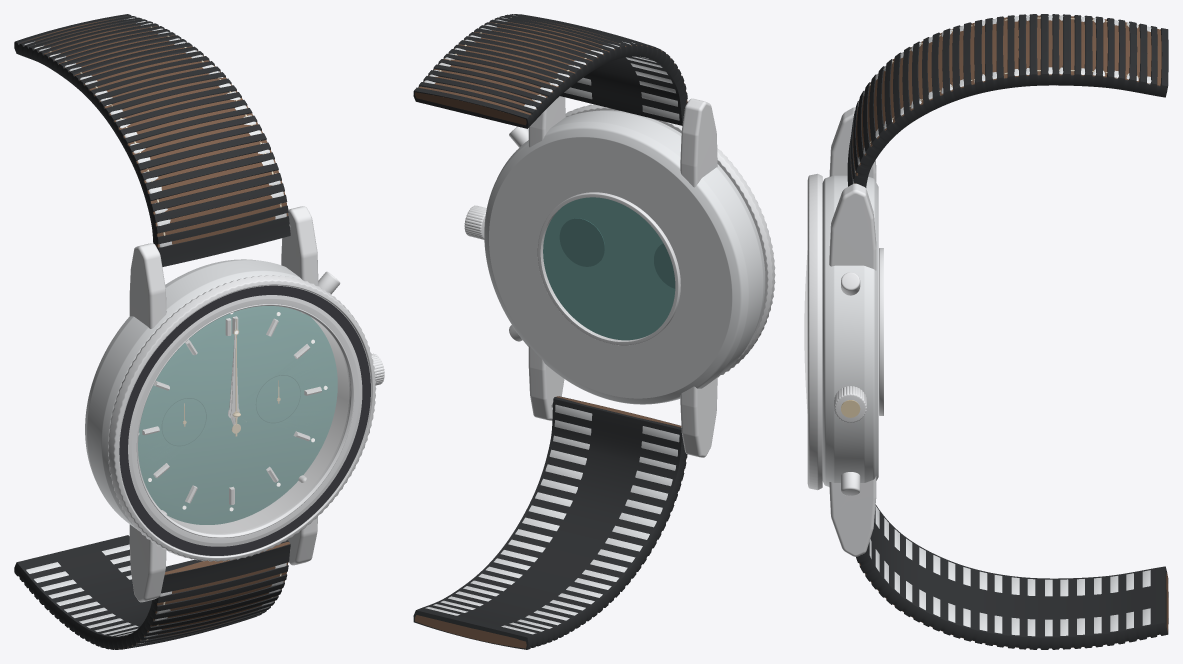
Rendered from kala-watch.glb.
The picture shows the model from 3 angles, left to right: view 1: azimuth 30°, elevation 25°; view 2: azimuth 150°, elevation 25°; view 3: azimuth 270°, elevation 25°; orthographic projection. The views are drawn at different scales.
Parts seen in each view (by area): view 1: strap_rubber, crystal, dial, strap_leather, bezel_diver, bezel_polished, case_mid, lugs, bezel_insert, strap_bracelet, dial_chrono, indices; view 2: strap_rubber, caseback_ring, caseback_glass, case_mid, dial, strap_bracelet, lugs, strap_leather, bezel_diver, caseback_bevel, subdials, dial_chrono (+1 smaller); view 3: strap_rubber, case_mid, lugs, strap_leather, strap_bracelet, bezel_diver, crown, caseback_bevel, pushers.
Part boxes in pixels (left/top/right/bottom): strap_rubber: left=14, top=14, right=290, bottom=649; crystal: left=138, top=306, right=350, bottom=533; dial: left=138, top=306, right=337, bottom=524; strap_leather: left=22, top=18, right=289, bottom=648; bezel_diver: left=108, top=275, right=376, bottom=561; bezel_polished: left=128, top=295, right=362, bottom=546; case_mid: left=85, top=259, right=303, bottom=531; lugs: left=129, top=206, right=318, bottom=602; bezel_insert: left=119, top=285, right=370, bottom=555; strap_bracelet: left=24, top=17, right=286, bottom=646; dial_chrono: left=138, top=335, right=337, bottom=480; indices: left=142, top=316, right=321, bottom=504; strap_rubber: left=413, top=14, right=687, bottom=649; caseback_ring: left=489, top=137, right=731, bottom=398; caseback_glass: left=541, top=198, right=674, bottom=341; case_mid: left=484, top=110, right=765, bottom=404; dial: left=543, top=197, right=675, bottom=340; strap_bracelet: left=424, top=14, right=679, bottom=634; lugs: left=528, top=96, right=717, bottom=457; strap_leather: left=415, top=17, right=687, bottom=648; bezel_diver: left=565, top=104, right=775, bottom=377; caseback_bevel: left=537, top=192, right=680, bottom=345; subdials: left=559, top=218, right=675, bottom=288; dial_chrono: left=543, top=203, right=674, bottom=339; strap_rubber: left=847, top=14, right=1168, bottom=649; case_mid: left=822, top=175, right=878, bottom=486; lugs: left=829, top=107, right=876, bottom=556; strap_leather: left=851, top=15, right=1168, bottom=648; strap_bracelet: left=853, top=15, right=1151, bottom=648; bezel_diver: left=807, top=173, right=822, bottom=490; crown: left=834, top=386, right=866, bottom=422; caseback_bevel: left=879, top=248, right=883, bottom=415; pushers: left=841, top=272, right=860, bottom=495.
Bounding box in the file's own units: 2.19 × 4.11 × 2.34.
